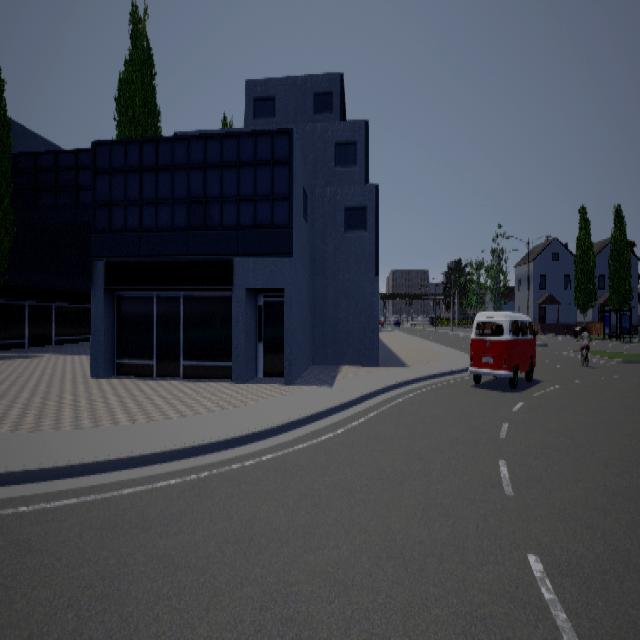bike: (578, 330, 593, 364)
vehicle: (470, 310, 539, 387)
